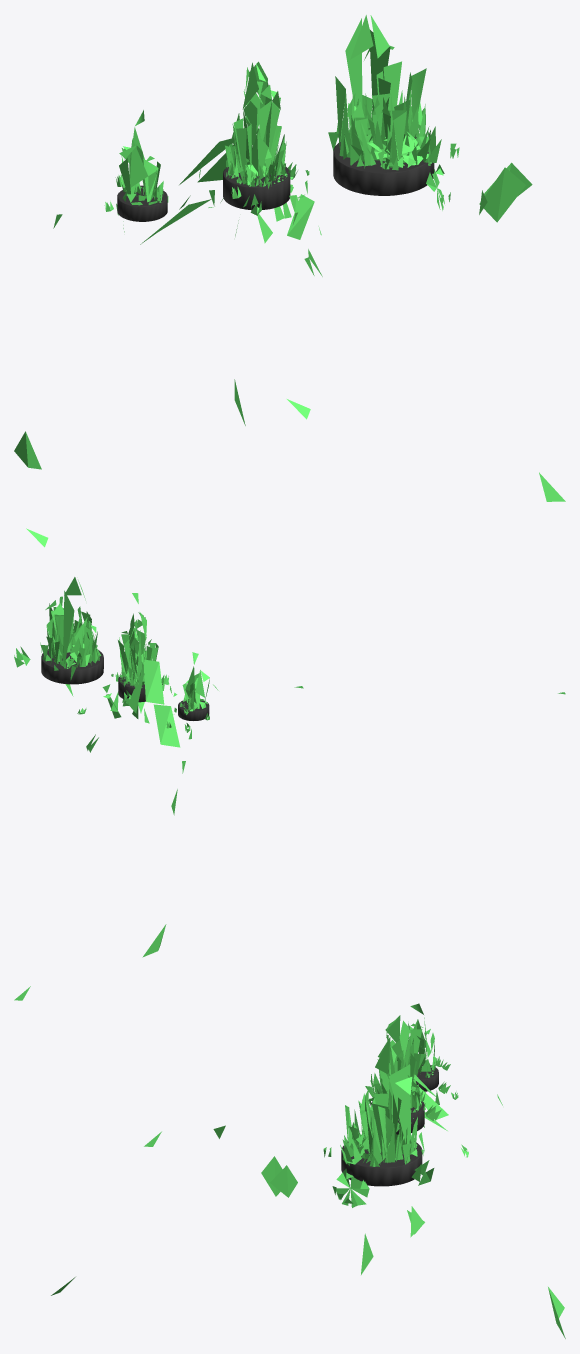
The model's file is crystals_green.glb.
3 views of the same model, one above another, from view 1: azimuth 30°, elevation 25°; view 2: azimuth 150°, elevation 25°; view 3: azimuth 270°, elevation 25° (orthographic). The views are drawn at different scales.
Visible parts, largest first — view 1: Object_7, Object_13, Object_232, Object_229, Object_37, Object_223, Object_187, Object_157, Object_559, Object_106, Object_31; view 2: Object_7, Object_13, Object_178, Object_175, Object_232; view 3: Object_7, Object_13, Object_232, Object_37, Object_34, Object_169, Object_70.
Boxes of the visible parts, <box> form: Object_7: <box>333,137,434,195</box>; Object_13: <box>345,15,390,111</box>; Object_232: <box>242,61,271,166</box>; Object_229: <box>223,167,290,210</box>; Object_37: <box>479,162,532,222</box>; Object_223: <box>117,185,167,221</box>; Object_187: <box>129,110,157,196</box>; Object_157: <box>335,76,358,157</box>; Object_559: <box>232,115,251,179</box>; Object_106: <box>387,111,406,168</box>; Object_31: <box>403,68,426,136</box>; Object_7: <box>41,649,103,684</box>; Object_13: <box>57,577,85,663</box>; Object_178: <box>153,704,180,747</box>; Object_175: <box>143,659,164,704</box>; Object_232: <box>129,612,146,678</box>; Object_7: <box>341,1141,422,1186</box>; Object_13: <box>375,1037,411,1144</box>; Object_232: <box>385,1015,410,1082</box>; Object_37: <box>261,1156,297,1197</box>; Object_34: <box>332,1168,369,1207</box>; Object_169: <box>372,1093,401,1153</box>; Object_70: <box>383,1115,401,1162</box>.
Size of the model in its own units: 17.66 by 12.43 by 16.04.
